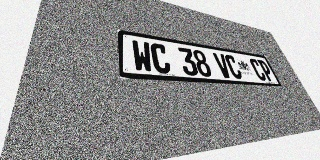3: (177, 47, 199, 76)
8: (192, 49, 213, 77)
C: (150, 42, 172, 74), (224, 54, 244, 79), (248, 58, 268, 81)
P: (257, 59, 276, 81)
V: (212, 52, 233, 78)
W: (131, 40, 154, 73)
